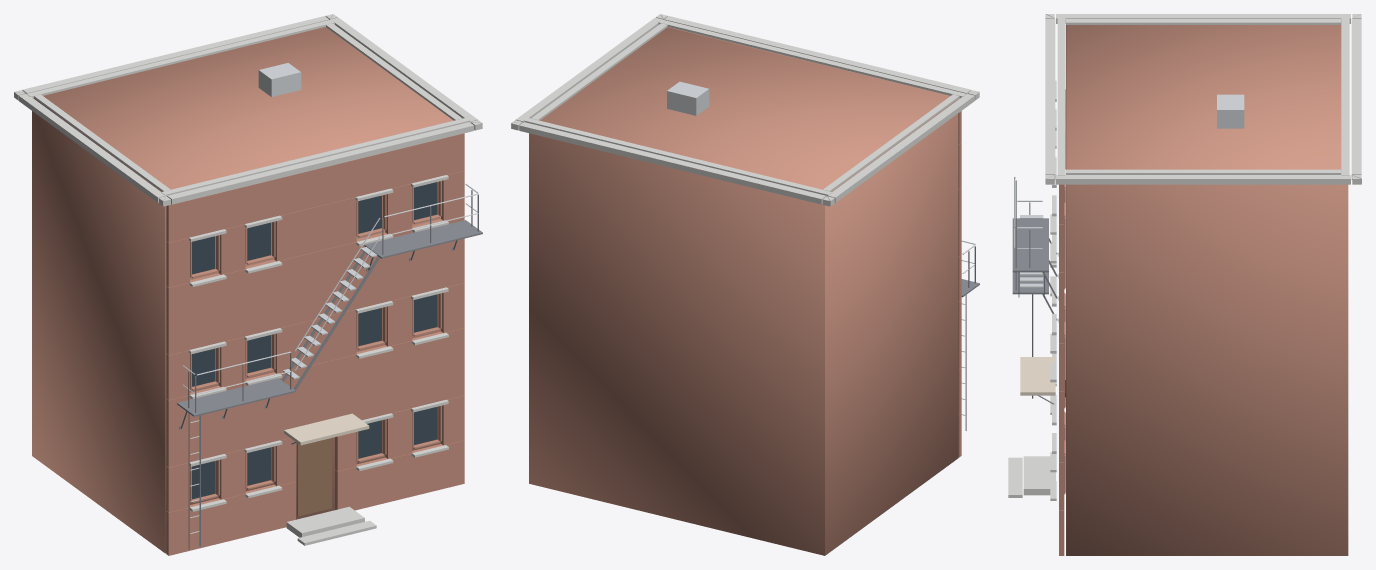
File: WalkUp.fbx
3 renders of one model, left to right at view 1: azimuth 30°, elevation 25°; view 2: azimuth 150°, elevation 25°; view 3: azimuth 270°, elevation 25°, orthographic. The views are drawn at different scales.
Parts seen in each view (by area): view 1: LOD0; view 2: LOD0; view 3: LOD0.
Boxes of the visible parts, x1,y1,x2,y2 form: LOD0: (14, 14, 482, 555); LOD0: (511, 14, 979, 555); LOD0: (1008, 14, 1361, 555).
Size of what is drawn, in the model's own units: 864 by 977 by 782.
